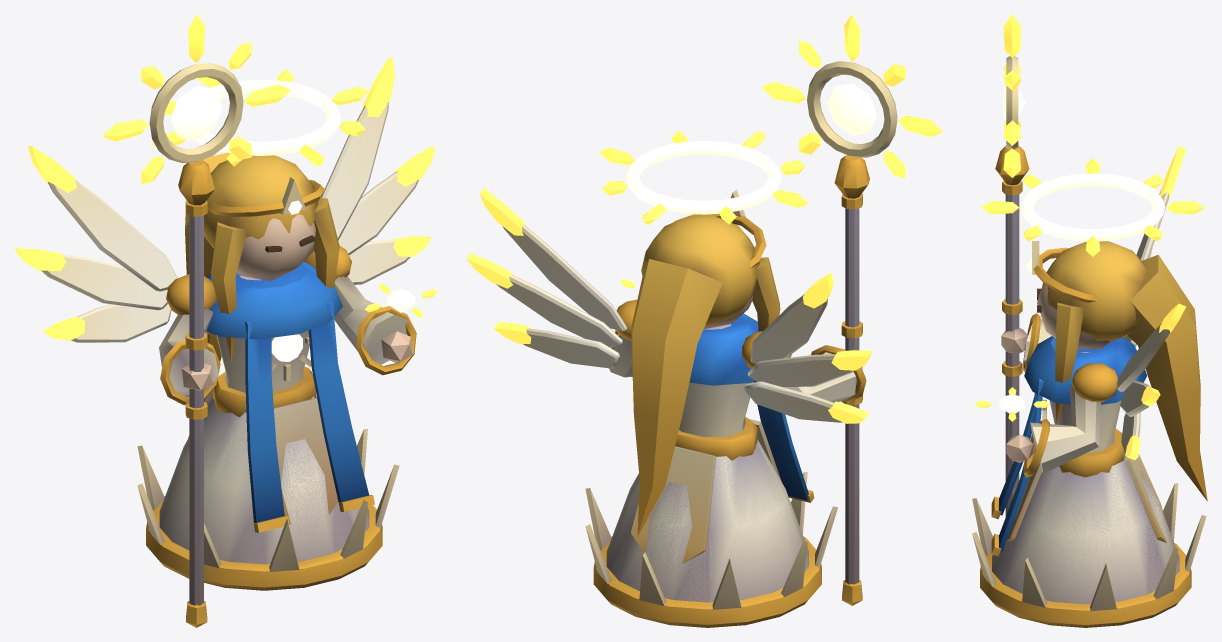
Rendered from hero_liora.glb.
3 views of the same model, side by side, from view 1: azimuth 30°, elevation 25°; view 2: azimuth 150°, elevation 25°; view 3: azimuth 270°, elevation 25° (orthographic). The views are drawn at different scales.
Parts seen in each view (by area): view 1: torso, head, wing_r, arm_r, wing_l, sun, halo, arm_l, mote; view 2: torso, head, wing_l, wing_r, sun, arm_r, halo; view 3: torso, head, halo, arm_r, arm_l, wing_l, sun, wing_r, mote.
Part boxes in pixels (x1=…): torso: x1=137, y1=245, x2=399, y2=590; head: x1=185, y1=152, x2=339, y2=362; wing_r: x1=14, y1=146, x2=177, y2=342; arm_r: x1=159, y1=160, x2=220, y2=627; wing_l: x1=321, y1=58, x2=434, y2=284; sun: x1=102, y1=14, x2=290, y2=183; halo: x1=151, y1=69, x2=368, y2=166; arm_l: x1=334, y1=276, x2=416, y2=375; mote: x1=364, y1=283, x2=437, y2=317; torso: x1=585, y1=299, x2=837, y2=627; head: x1=631, y1=189, x2=780, y2=536; wing_l: x1=466, y1=188, x2=626, y2=368; wing_r: x1=744, y1=272, x2=872, y2=423; sun: x1=761, y1=14, x2=943, y2=177; arm_r: x1=784, y1=155, x2=869, y2=605; halo: x1=599, y1=130, x2=808, y2=224; torso: x1=972, y1=336, x2=1206, y2=627; head: x1=1025, y1=241, x2=1207, y2=501; halo: x1=981, y1=158, x2=1204, y2=256; arm_r: x1=995, y1=145, x2=1051, y2=516; arm_l: x1=1006, y1=386, x2=1100, y2=477; wing_l: x1=1117, y1=303, x2=1186, y2=460; sun: x1=1002, y1=14, x2=1025, y2=177; wing_r: x1=1122, y1=146, x2=1186, y2=346; mote: x1=975, y1=387, x2=1049, y2=421.
Size of the model in its own units: 1.76 by 2.48 by 0.9649.
